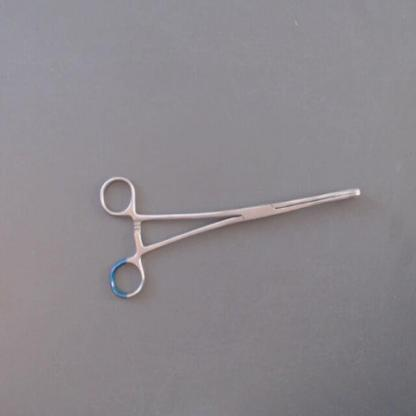Sponge Forceps: (94, 168, 371, 304)
